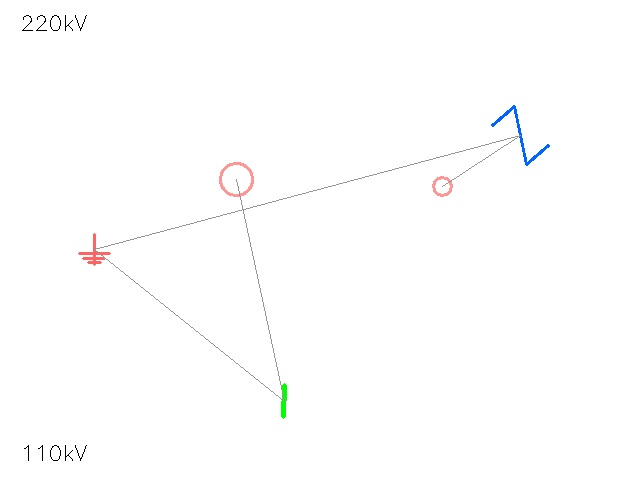busbar: (264, 381, 304, 421)
circuit_breaker: (491, 106, 549, 164)
ground: (79, 234, 109, 264)
surge_arrester: (204, 147, 268, 211)
voltage_transformer: (424, 168, 460, 204)
